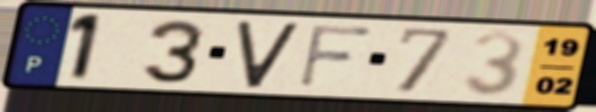1: (64, 12, 107, 84)
3: (459, 27, 529, 100), (141, 17, 207, 85)
7: (396, 25, 457, 96)
F: (294, 22, 377, 90)
V: (234, 20, 304, 90)
